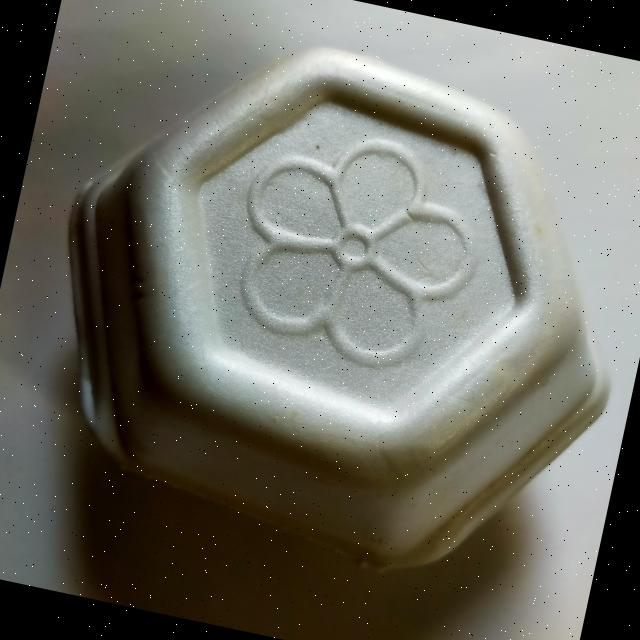styrofoam: (7, 0, 640, 611)
